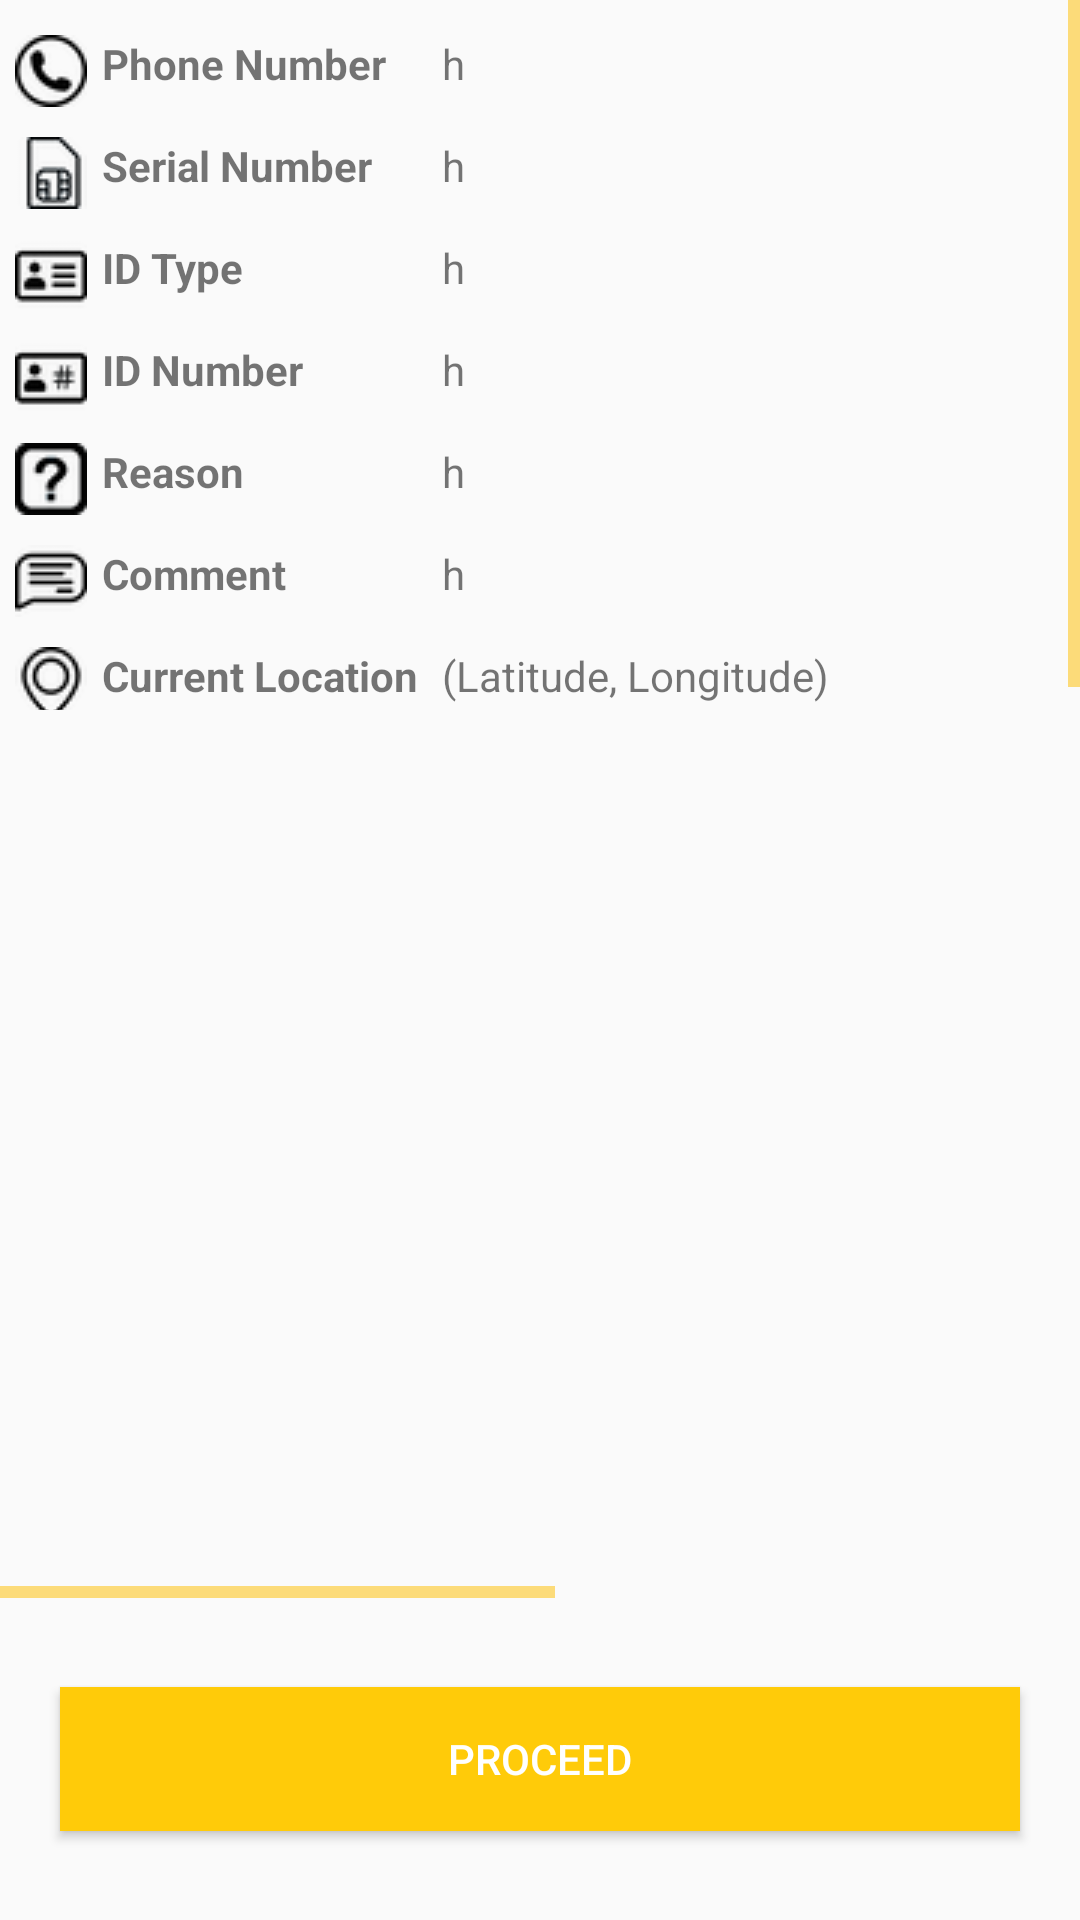

Where icons sit on this 1080 × 1920 app screen, as (x1, y1, x2, y2):
label phone 24p: (15, 35, 87, 107)
